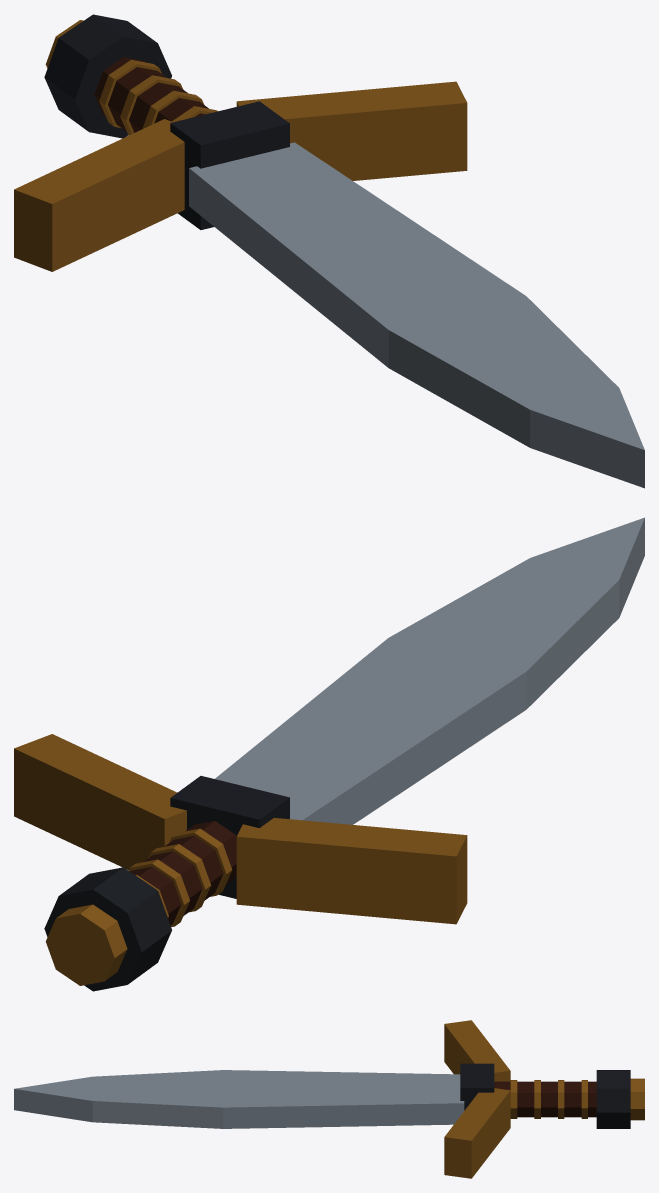
Rendered from crypt_sword.obj.
The picture shows the model from 3 angles, top to bottom: view 1: azimuth 30°, elevation 25°; view 2: azimuth 150°, elevation 25°; view 3: azimuth 270°, elevation 25°; orthographic projection. The views are drawn at different scales.
Parts seen in each view (by area): view 1: Crypt_Sword; view 2: Crypt_Sword; view 3: Crypt_Sword.
Part boxes in pixels (x1=…): Crypt_Sword: x1=14, y1=14, x2=644, y2=488; Crypt_Sword: x1=14, y1=517, x2=644, y2=991; Crypt_Sword: x1=14, y1=1020, x2=644, y2=1178.
Size of the model in its own units: 1.09 by 0.24 by 2.41.
